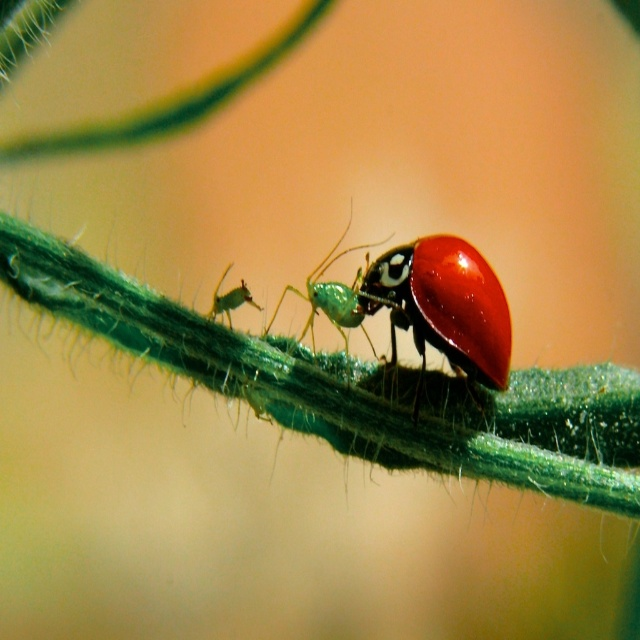Ladybug: (357, 236, 510, 428)
